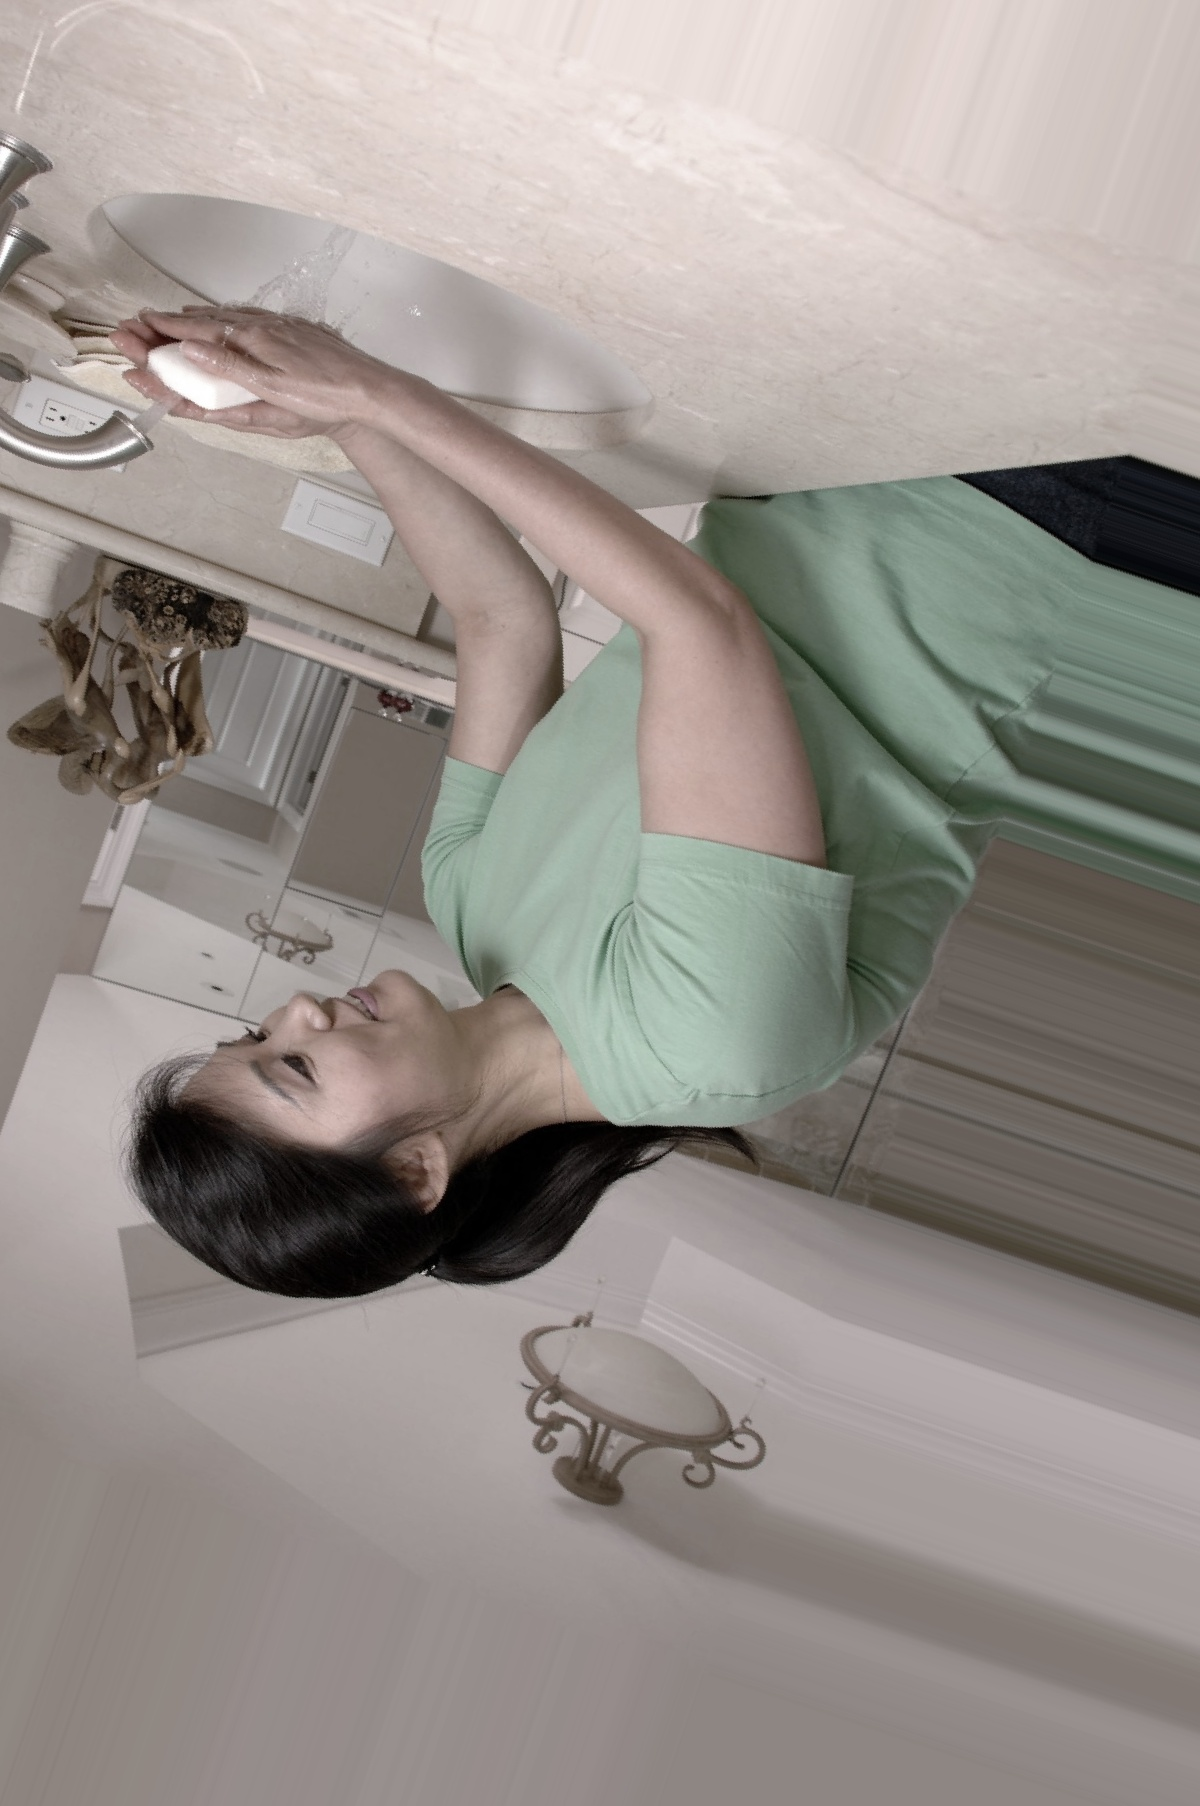washing hand: (0, 119, 434, 610)
